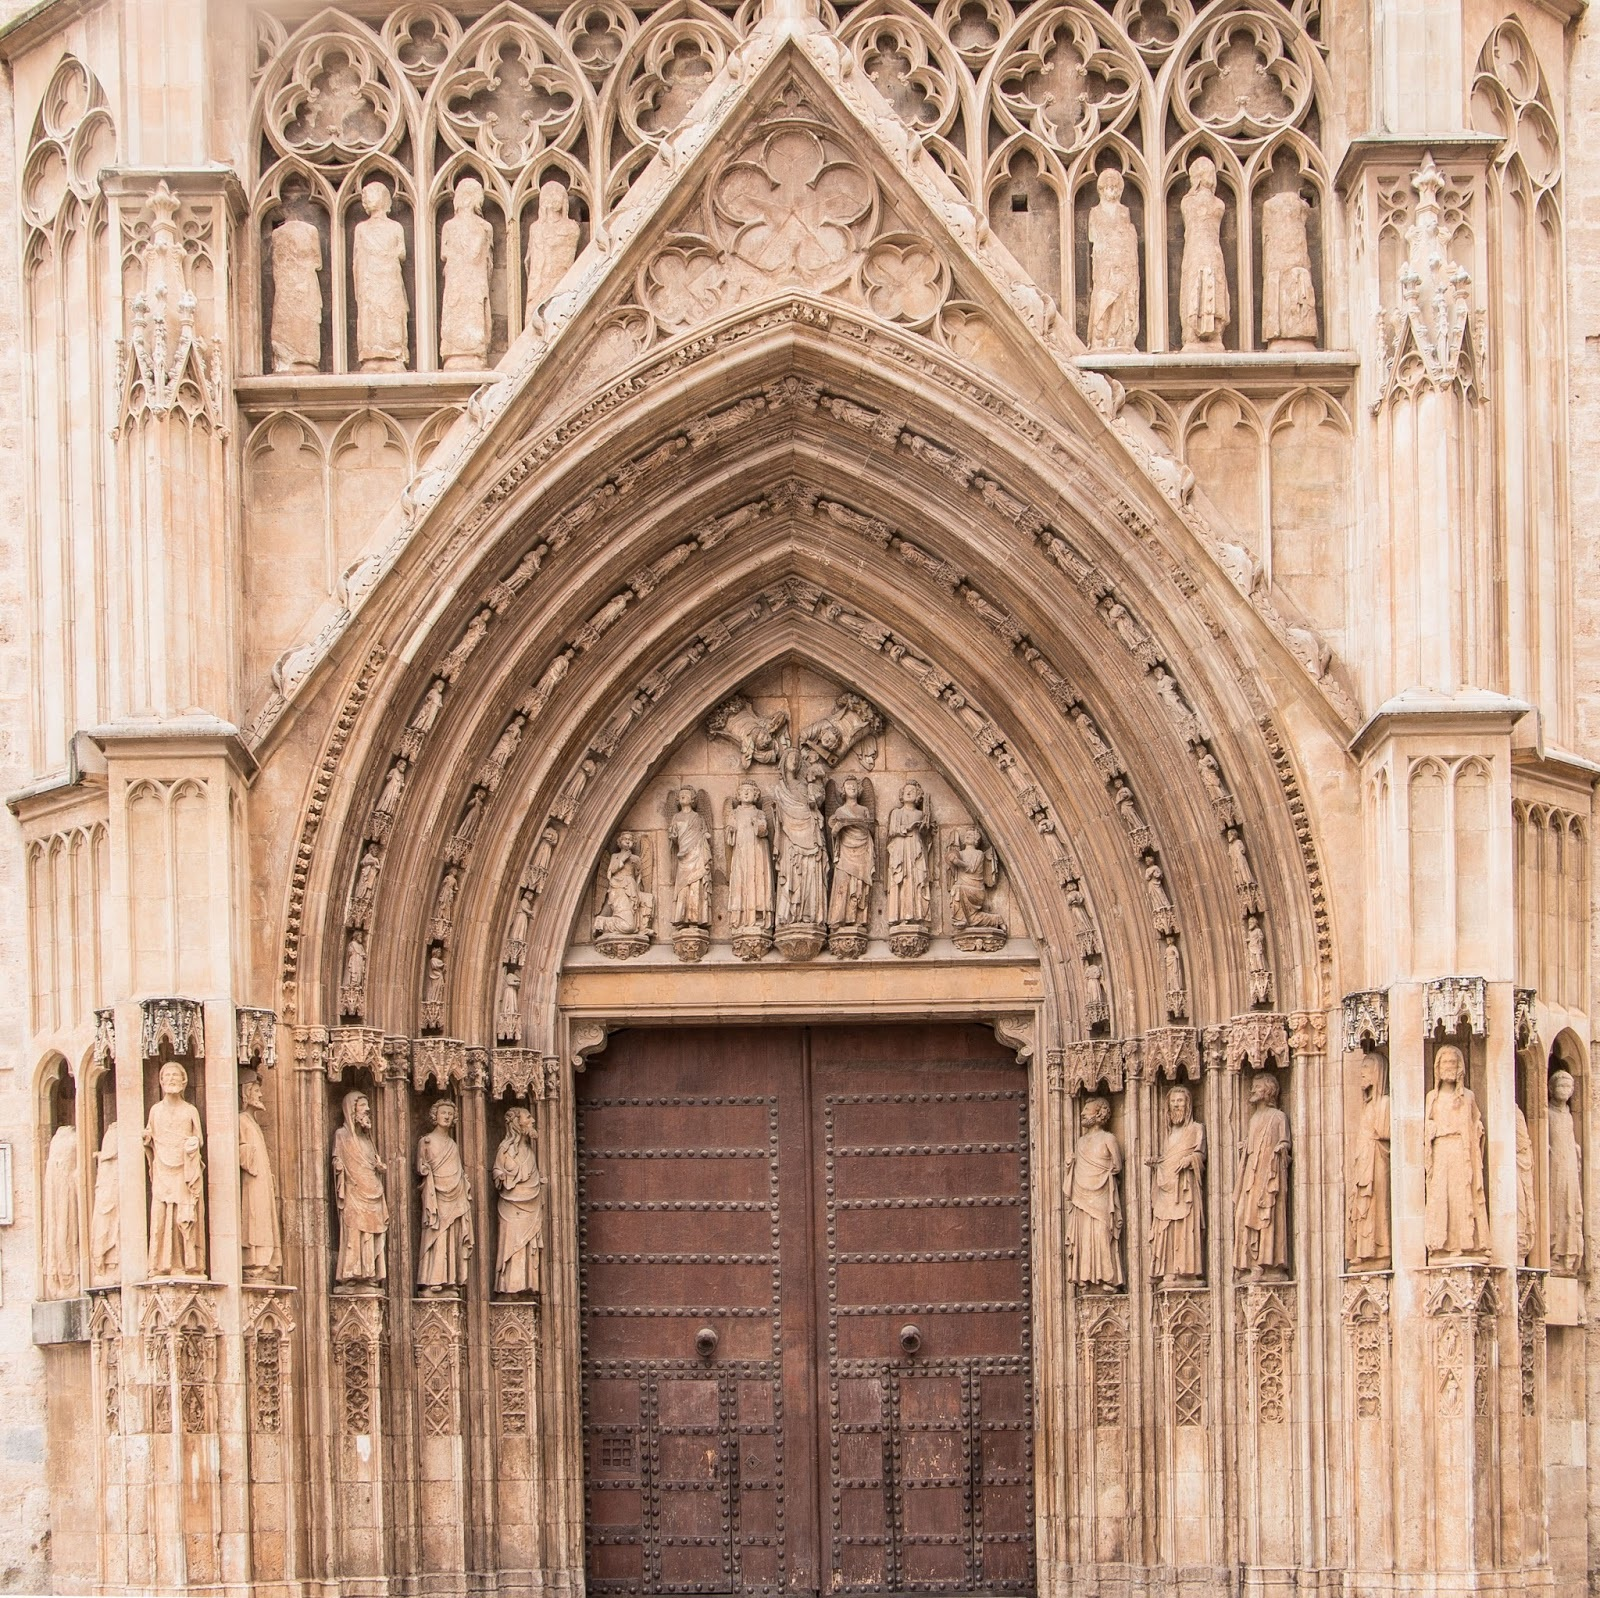arco-apuntado: (272, 285, 1338, 1002)
